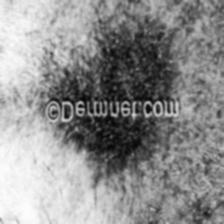Potentially Malignant Skin Tumors: (51, 122, 172, 152)
